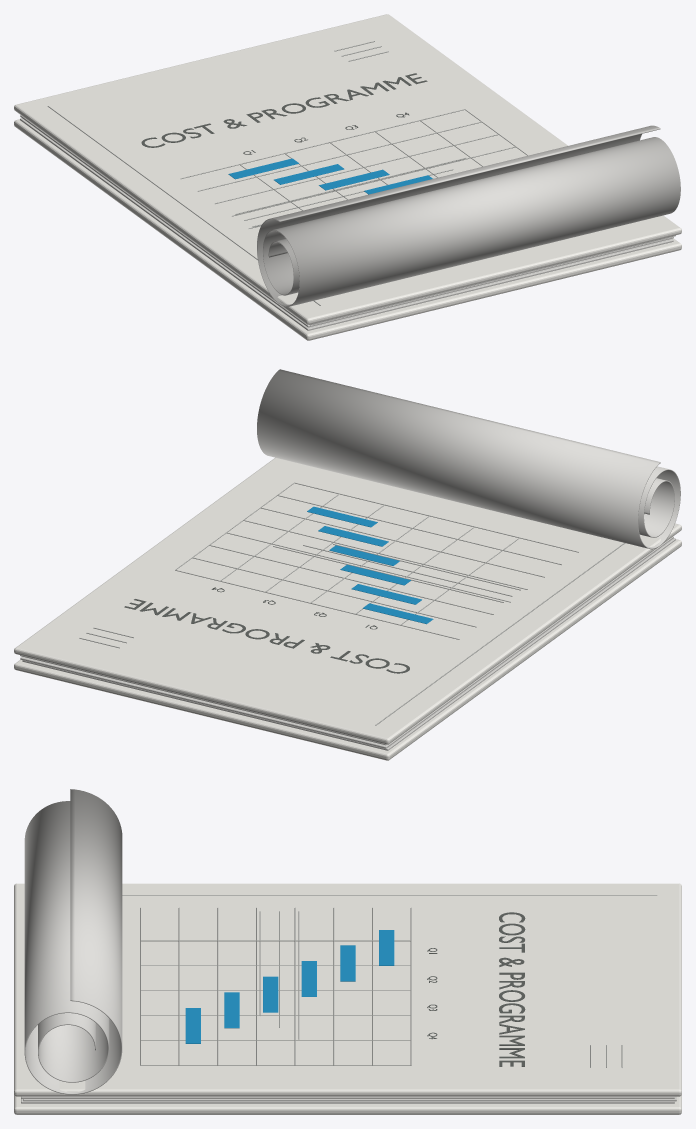
The model's file is cost-programme.glb.
3 views of the same model, one above another, from view 1: azimuth 30°, elevation 25°; view 2: azimuth 150°, elevation 25°; view 3: azimuth 270°, elevation 25° (orthographic). The views are drawn at different scales.
Visible parts, largest first — view 1: Top cover, Rolled paper with open spiral ends, Bottom cover, Paper leaf 1, Paper leaf 2, COST & PROGRAMME, Paper leaf 3, Blue programme activity, Blue programme activity.001, Blue programme activity.002; view 2: Top cover, Rolled paper with open spiral ends, Bottom cover, Paper leaf 2, Paper leaf 1, COST & PROGRAMME; view 3: Top cover, Rolled paper with open spiral ends, Bottom cover, Paper leaf 2, Paper leaf 1, Paper leaf 3, COST & PROGRAMME, Blue programme activity.001, Blue programme activity.004, Blue programme activity.003, Blue programme activity, Blue programme activity.002 (+3 smaller).
Boxes of the visible parts, left/top/right/bottom form: Top cover: left=14, top=14, right=681, bottom=324; Rolled paper with open spiral ends: left=257, top=125, right=680, bottom=306; Bottom cover: left=14, top=119, right=681, bottom=340; Paper leaf 1: left=20, top=118, right=673, bottom=330; Paper leaf 2: left=20, top=115, right=673, bottom=327; COST & PROGRAMME: left=141, top=73, right=427, bottom=147; Paper leaf 3: left=309, top=235, right=675, bottom=325; Blue programme activity: left=228, top=158, right=298, bottom=179; Blue programme activity.001: left=274, top=164, right=344, bottom=184; Blue programme activity.002: left=319, top=169, right=389, bottom=190; Top cover: left=14, top=457, right=681, bottom=744; Rolled paper with open spiral ends: left=257, top=369, right=680, bottom=549; Bottom cover: left=14, top=539, right=681, bottom=760; Paper leaf 2: left=20, top=536, right=673, bottom=748; Paper leaf 1: left=22, top=538, right=675, bottom=750; COST & PROGRAMME: left=124, top=599, right=409, bottom=673; Top cover: left=14, top=883, right=681, bottom=1096; Rolled paper with open spiral ends: left=24, top=789, right=122, bottom=1094; Bottom cover: left=14, top=1094, right=681, bottom=1114; Paper leaf 2: left=23, top=1096, right=676, bottom=1101; Paper leaf 1: left=21, top=1099, right=674, bottom=1103; Paper leaf 3: left=21, top=1096, right=674, bottom=1098; COST & PROGRAMME: left=499, top=912, right=525, bottom=1066; Blue programme activity.001: left=340, top=945, right=355, bottom=981; Blue programme activity.004: left=224, top=992, right=239, bottom=1028; Blue programme activity.003: left=263, top=976, right=278, bottom=1012; Blue programme activity: left=379, top=930, right=394, bottom=965; Blue programme activity.002: left=301, top=961, right=316, bottom=996.
Size of the model in its own units: 1.42 by 0.3678 by 1.9.
